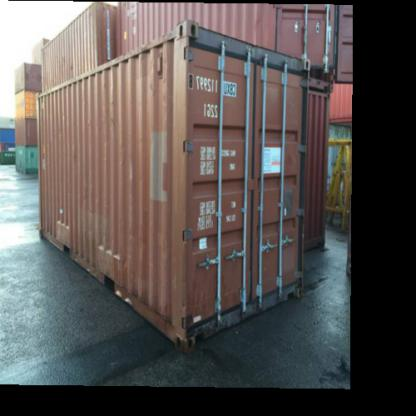Damage: (92, 235, 134, 264), (170, 310, 203, 342), (53, 204, 78, 232)
